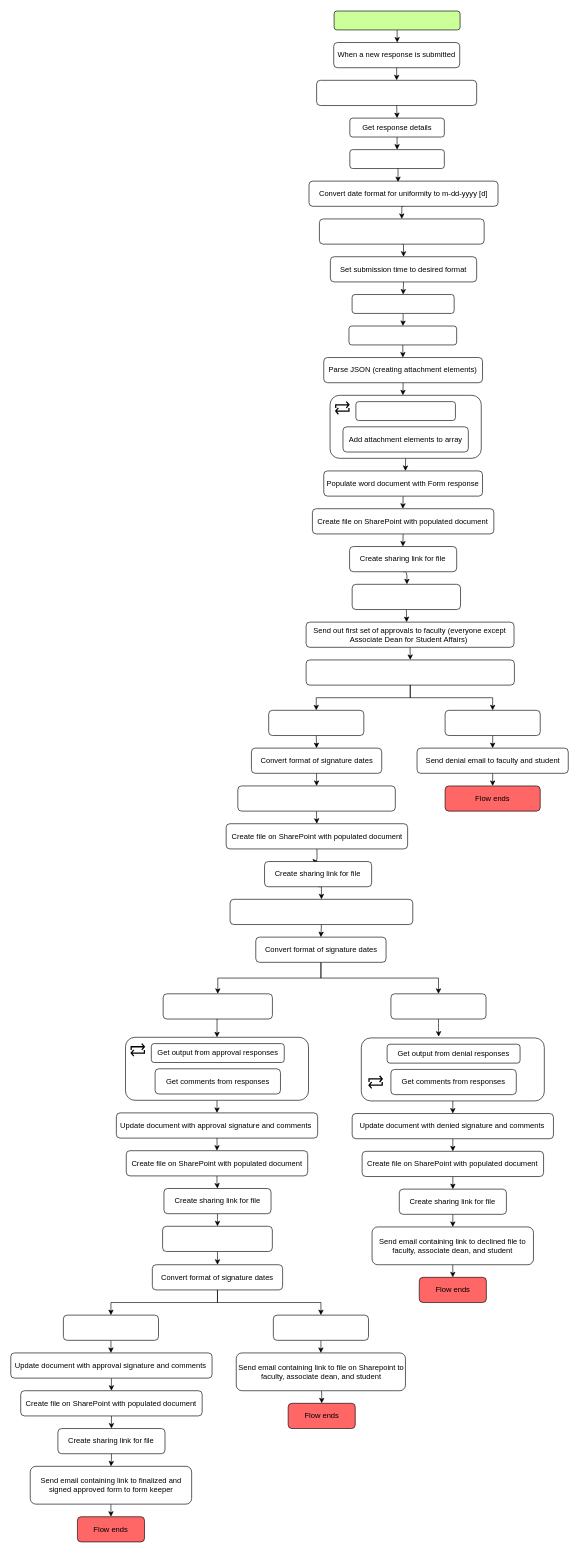
Image size: 580x1553. Some labels were removed from this diagram. Here are the shapes that lost their labels. From the top down, the centre of each, then its label:
the point at 396,20: Create Microsoft Form
the point at 396,93: Get email list from SharePoint list (Rolodox)
the point at 396,159: Convert time zone
the point at 401,231: Initialize new submission time variable for file
the point at 402,303: Get user profile for student
the point at 402,335: Create arrays of attachments
the point at 405,411: Get file content
the point at 406,597: Get user profiles for faculty
the point at 409,672: Capture the response information of each faculty member.
the point at 316,723: If everyone approves
the point at 492,723: One person denies
the point at 316,798: Update document with approval signatures
the point at 321,912: Send out approvals phase 2: Associate Dean for Student Affairs approval
the point at 217,1006: If associate dean approves
the point at 438,1006: If associate dean denies
the point at 217,1238: Send out for final approval to student
the point at 111,1327: If person approves
the point at 320,1327: Person denies
